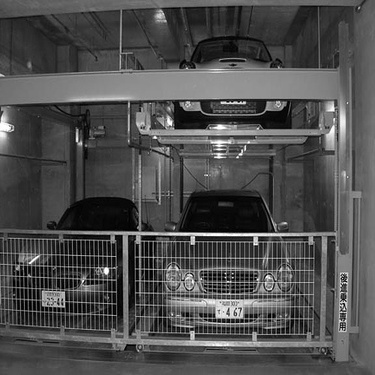car: (8, 189, 159, 350), (158, 183, 301, 338), (162, 28, 295, 135)
